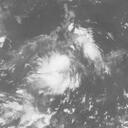cyclone: (32, 52, 80, 93)
